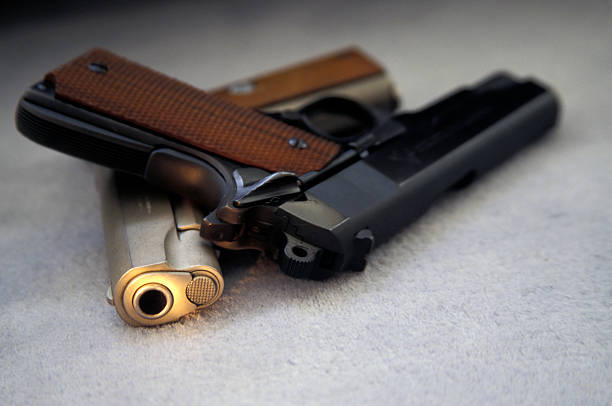pistol: (14, 41, 575, 331)
